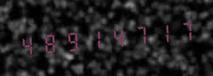eight: (39, 25, 60, 59)
four: (17, 27, 38, 61), (105, 20, 126, 54)
nine: (61, 24, 82, 58)
one: (83, 22, 104, 56), (149, 16, 170, 50)
seven: (127, 18, 148, 52), (171, 14, 192, 48)
